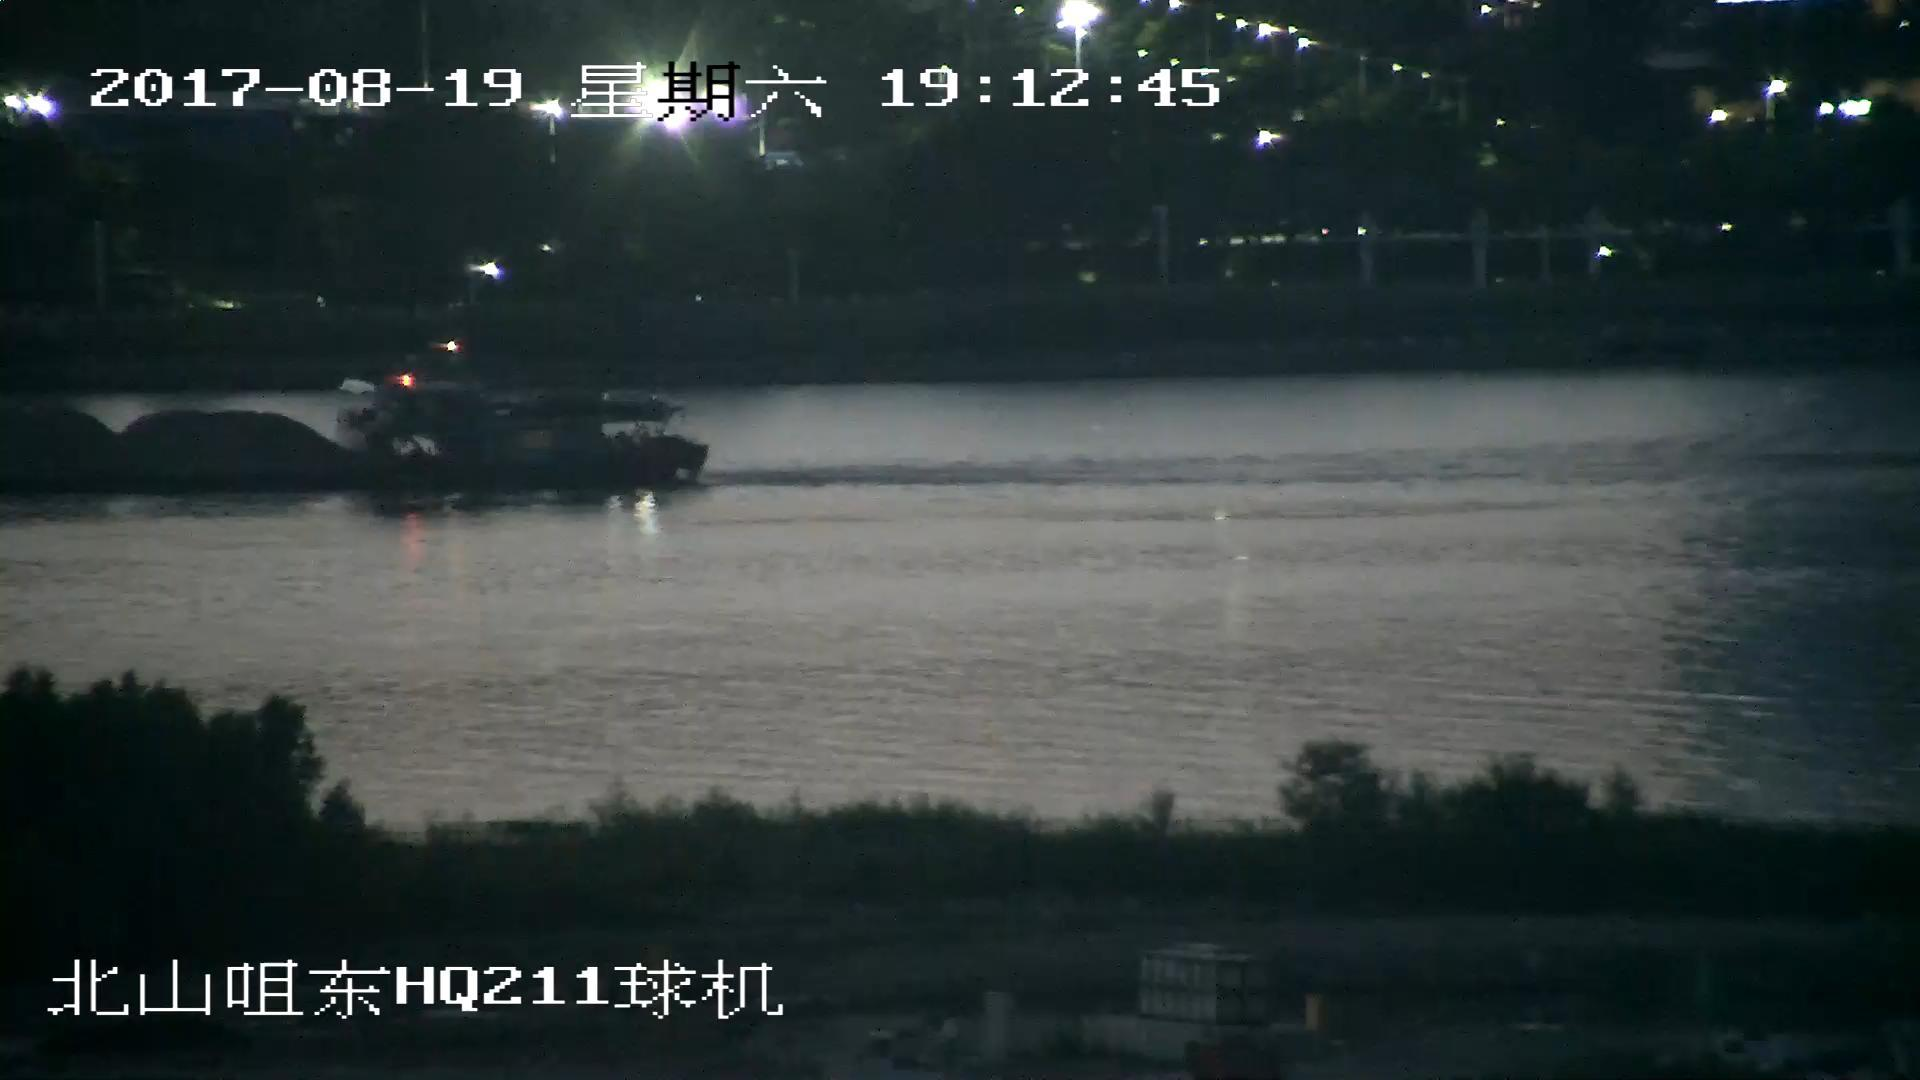Ship: (3, 363, 713, 512)
